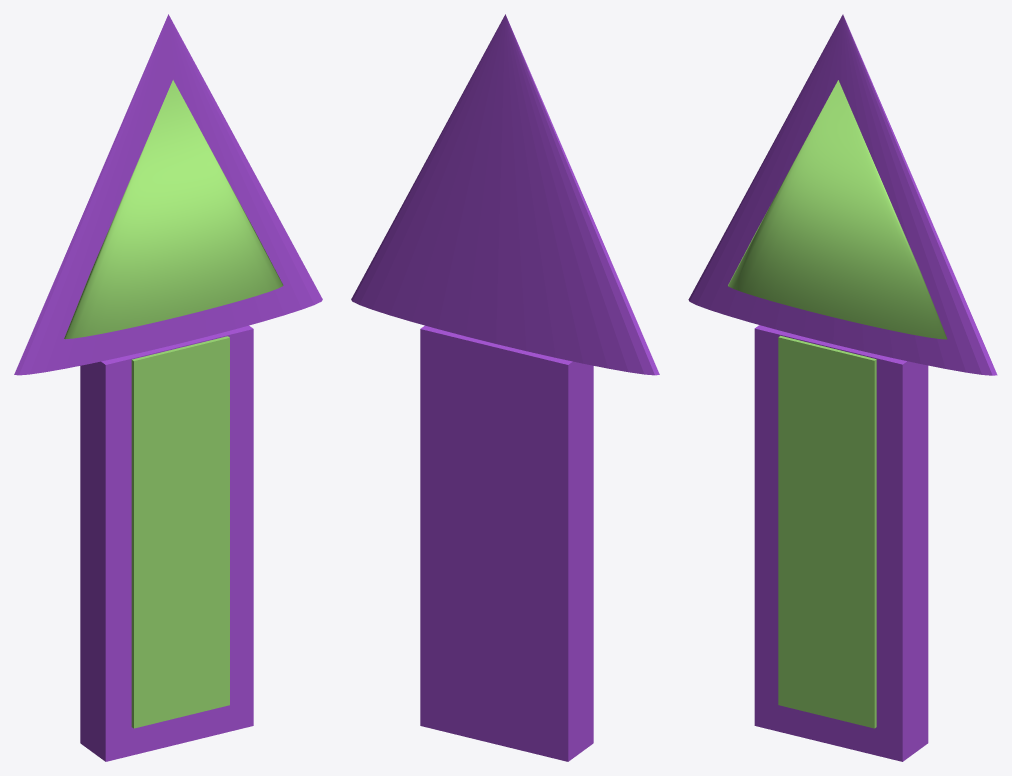
3 views of the same model, side by side, from view 1: azimuth 30°, elevation 25°; view 2: azimuth 150°, elevation 25°; view 3: azimuth 330°, elevation 25° (orthographic).
Visible parts, largest first — view 1: Cube.001, Cube, Cone.001, Cone; view 2: Cube, Cone; view 3: Cube.001, Cube, Cone.001, Cone.
Part boxes in pixels (box(x1,y1,x2,y2)): Cube.001: box(131, 336, 229, 728); Cube: box(80, 325, 253, 761); Cone.001: box(64, 80, 283, 339); Cone: box(14, 14, 322, 375); Cube: box(420, 325, 593, 761); Cone: box(351, 14, 659, 375); Cube.001: box(778, 335, 876, 728); Cube: box(754, 325, 928, 761); Cone.001: box(728, 80, 947, 339); Cone: box(688, 14, 997, 375).
Size of the model in its own units: 127 by 283 by 19.74.
